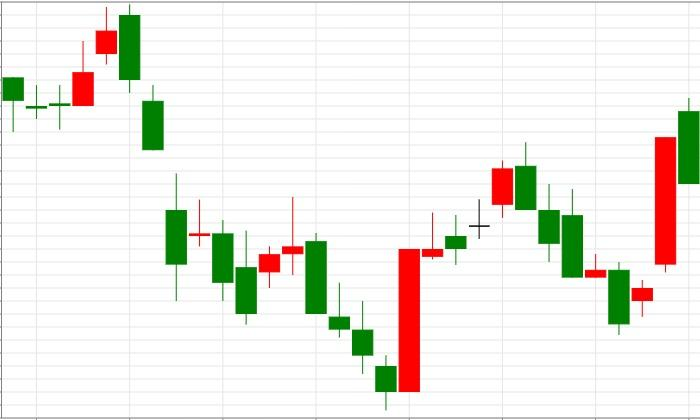bearish_engulfing_fall: (25, 4, 141, 130)
three_black_crows_fall: (25, 4, 188, 301)
